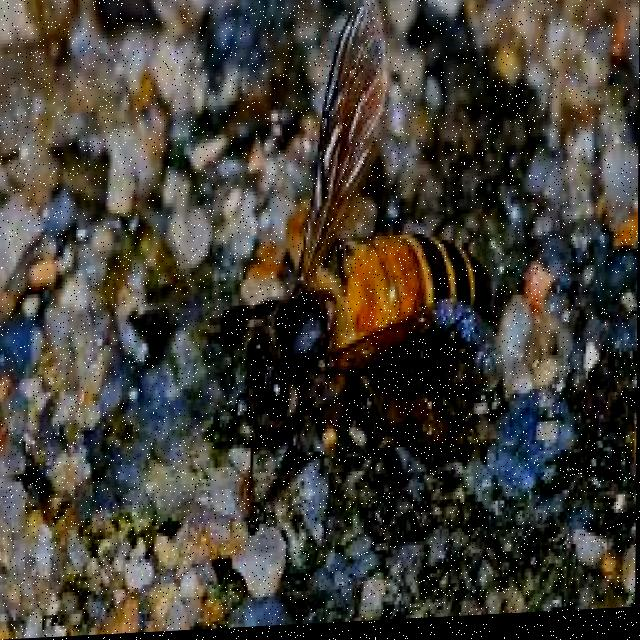Apis-mellifera-scutellata: (211, 0, 514, 530)
